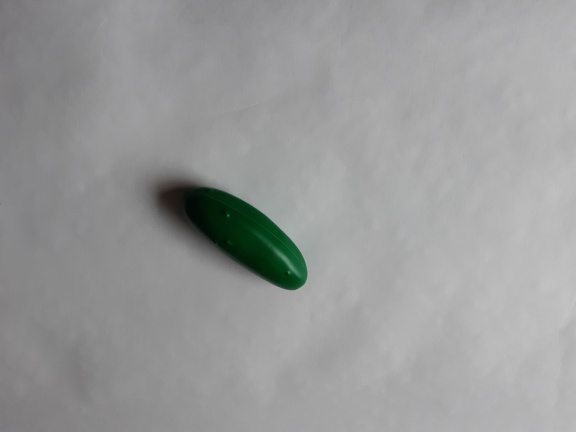cucumber: (175, 178, 316, 298)
